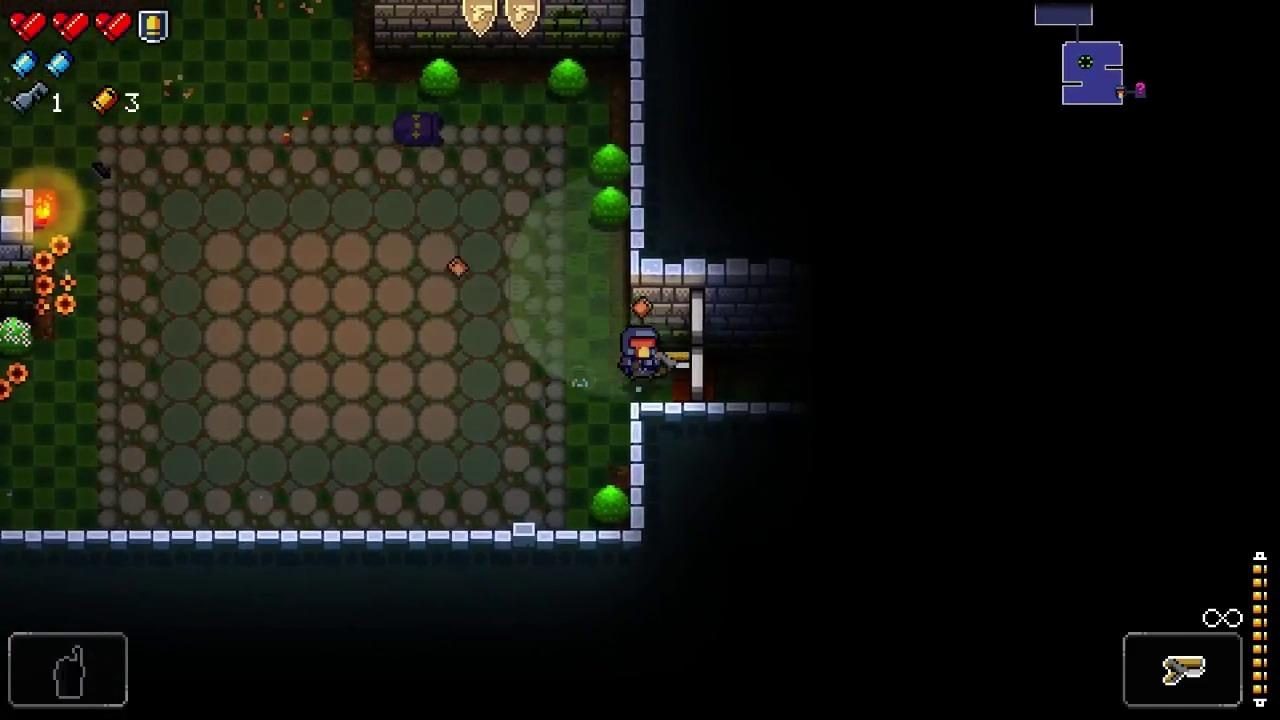dead_rubber_kin: (393, 111, 446, 148)
player: (618, 324, 663, 383)
unlocked_door: (690, 289, 704, 402)
